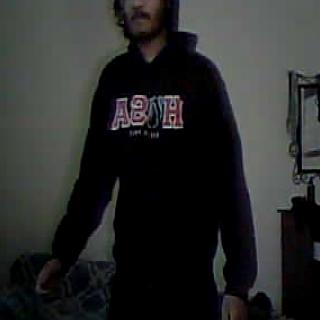HOSA hoodie: (59, 34, 247, 282)
Navy Sweatpants: (116, 274, 217, 320)
